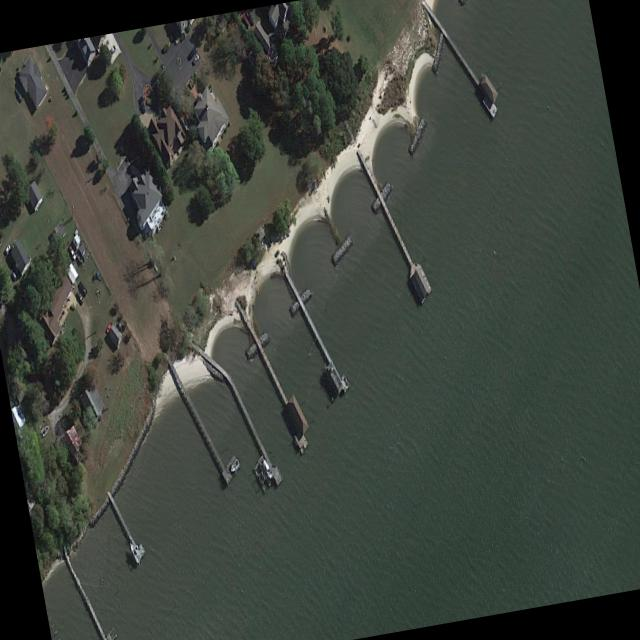ship: (127, 537, 142, 565), (260, 452, 274, 480), (228, 455, 240, 474), (39, 420, 51, 438)
small-vehicle: (67, 240, 77, 260), (14, 85, 23, 102), (104, 317, 113, 334), (3, 239, 12, 255), (191, 49, 200, 65), (78, 280, 87, 294), (242, 12, 250, 26), (139, 94, 145, 110), (76, 289, 83, 302), (108, 43, 115, 56), (189, 44, 196, 57)
